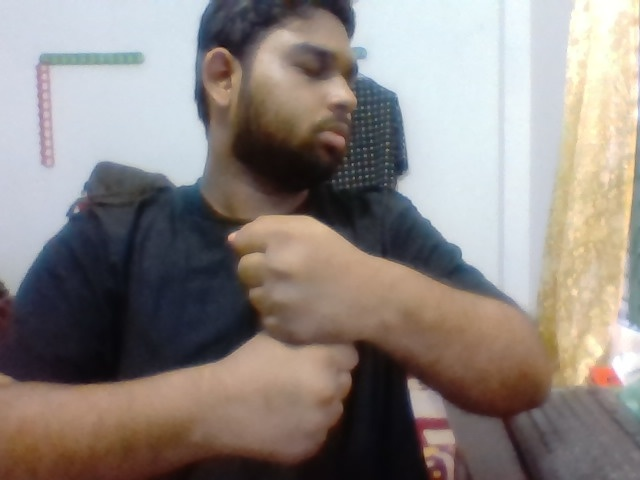G: (208, 210, 377, 471)
